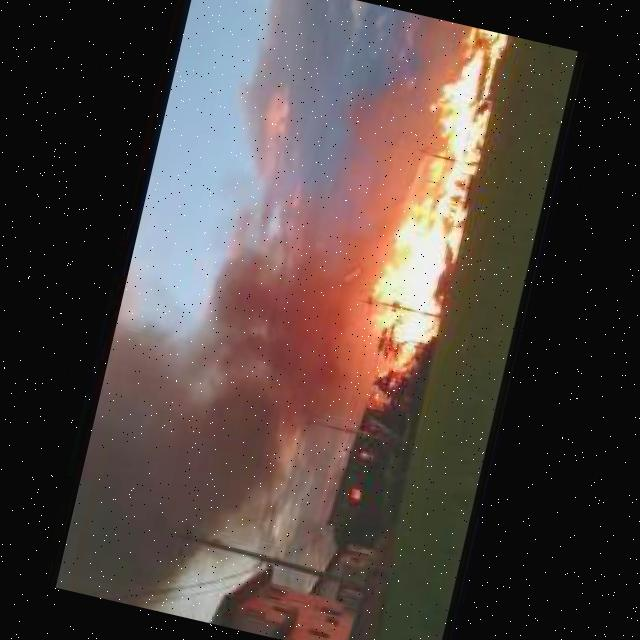fire: (351, 18, 506, 390)
